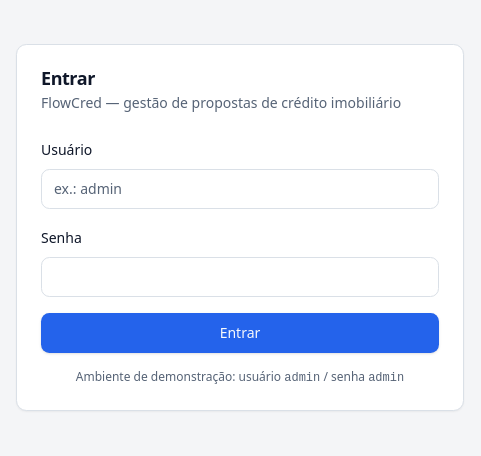
Test case: LoginPage › valida campos obrigatórios
This screenshot has width=481, height=456.
Click the button "Entrar": (240, 332) x1=41 y1=312 x2=439 y2=352
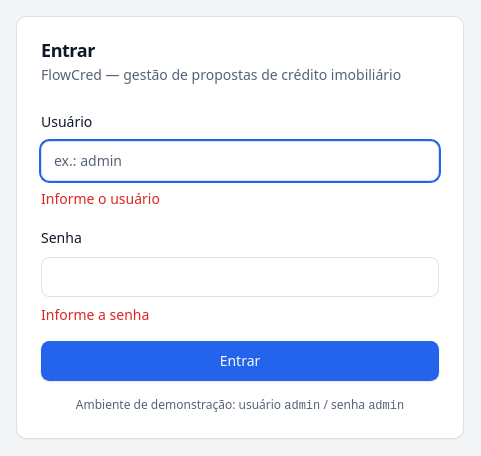
Check: the text "Informe o usuário" is shown, box x1=41 y1=188 x2=160 y2=208
Check: the text "Informe a senha" is shown, box x1=41 y1=304 x2=149 y2=324
